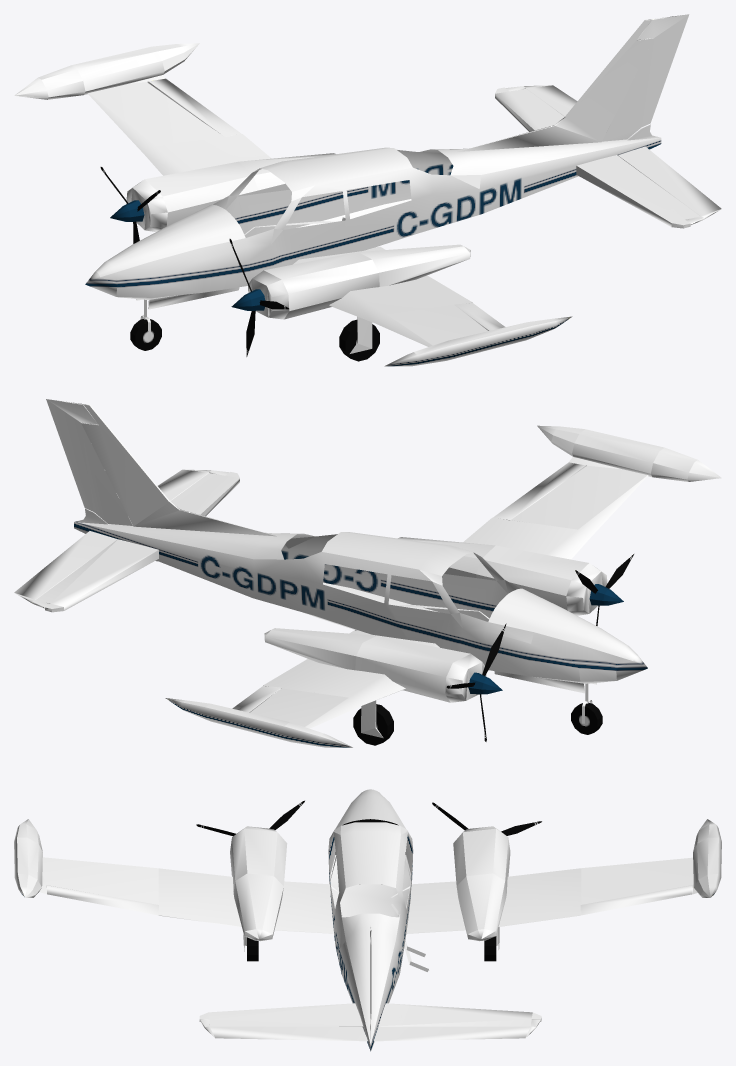
3 views of the same model, one above another, from view 1: azimuth 30°, elevation 25°; view 2: azimuth 150°, elevation 25°; view 3: azimuth 270°, elevation 25° (orthographic). The views are drawn at different scales.
Size of the model in its own units: 9.65 by 3.15 by 10.66.
Materials: 3 (1 with a texture image).
